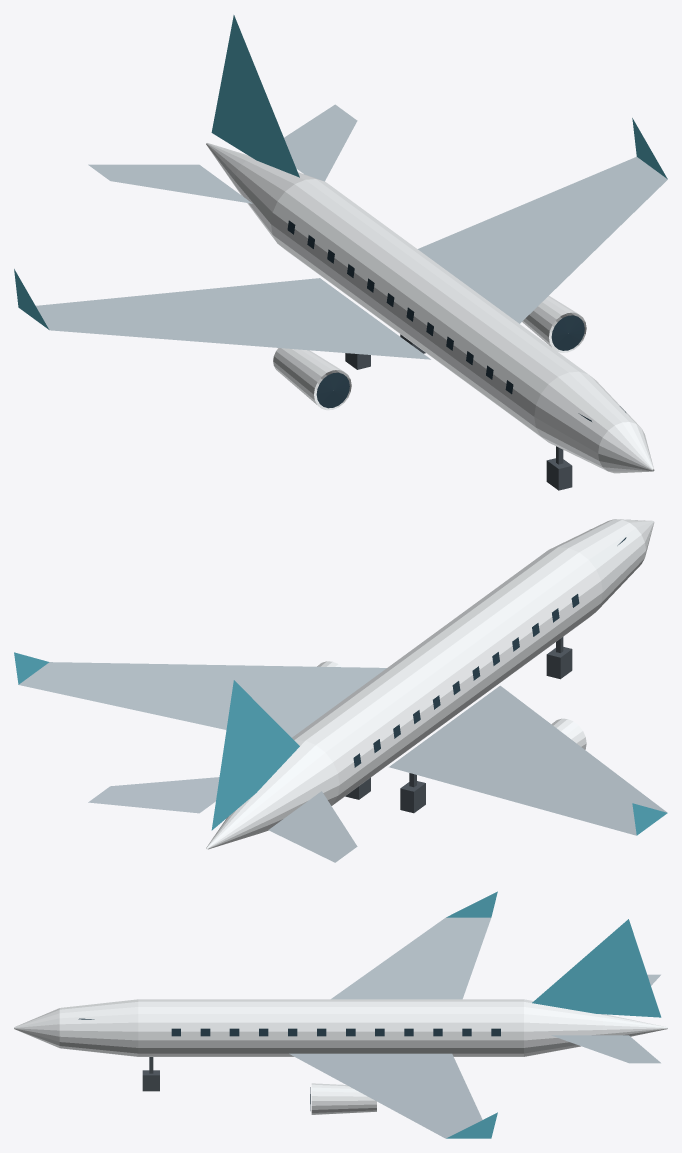
File: a321-KLM.gltf
3 views of the same model, one above another, from view 1: azimuth 30°, elevation 25°; view 2: azimuth 150°, elevation 25°; view 3: azimuth 270°, elevation 25° (orthographic). The views are drawn at different scales.
Parts seen in each view (by area): view 1: object 1, Gear; view 2: object 1, Gear; view 3: object 1, Gear.
Boxes of the visible parts, x1,y1,x2,y2 form: object 1: (14, 15, 667, 473); Gear: (345, 334, 572, 490); object 1: (14, 519, 667, 862); Gear: (345, 637, 572, 813); object 1: (14, 891, 667, 1138); Gear: (142, 1057, 159, 1091).
Bounding box in the file's own units: 36 × 12.9 × 45.
